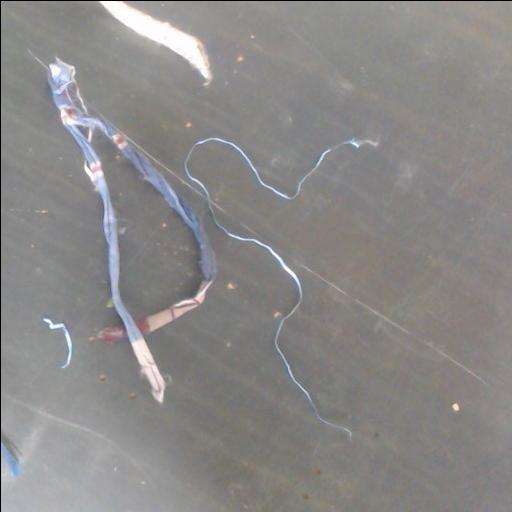cloth: (48, 58, 215, 402)
conveyor belt: (1, 1, 512, 512), (93, 137, 203, 319)
packet: (99, 1, 212, 84)
thread: (184, 137, 376, 437), (42, 317, 72, 368), (1, 433, 20, 477)
